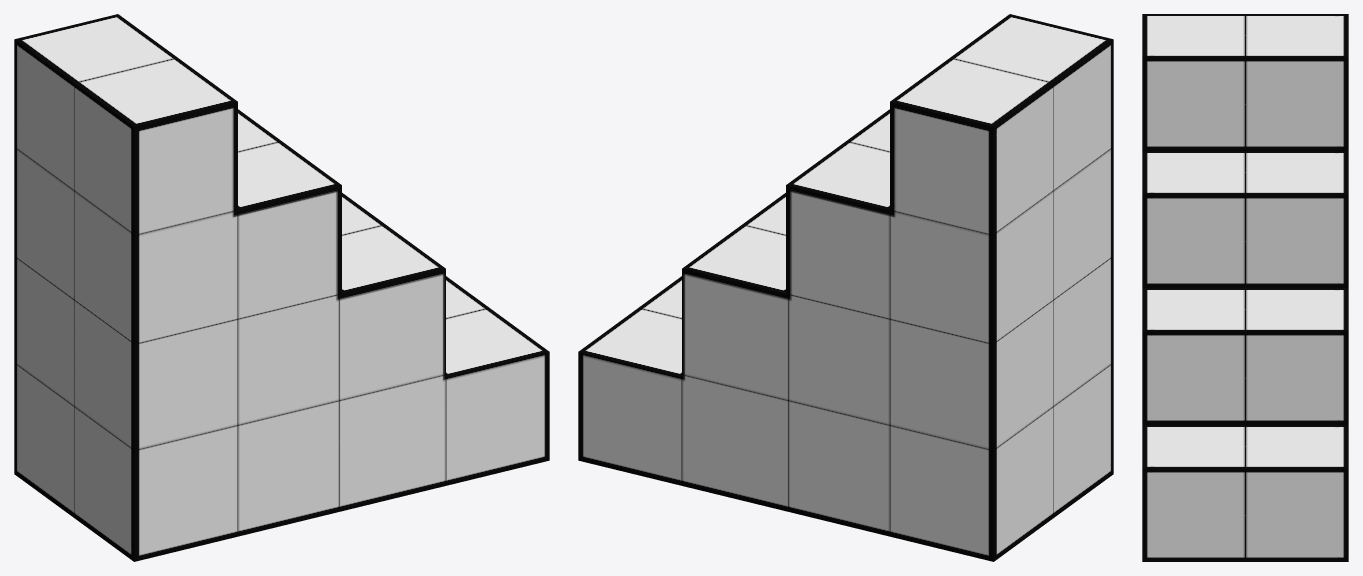
The model's file is fig4.glb.
3 views of the same model, side by side, from view 1: azimuth 30°, elevation 25°; view 2: azimuth 150°, elevation 25°; view 3: azimuth 270°, elevation 25° (orthographic). The views are drawn at different scales.
Visible parts, largest first — view 1: root; view 2: root; view 3: root.
Part boxes in pixels (box(x1,y1,x2,y2)): root: box(14, 14, 549, 561); root: box(578, 14, 1113, 561); root: box(1142, 14, 1348, 561).
Size of the model in its own units: 0.04 by 0.04 by 0.02.
6 materials, 6 textured.
